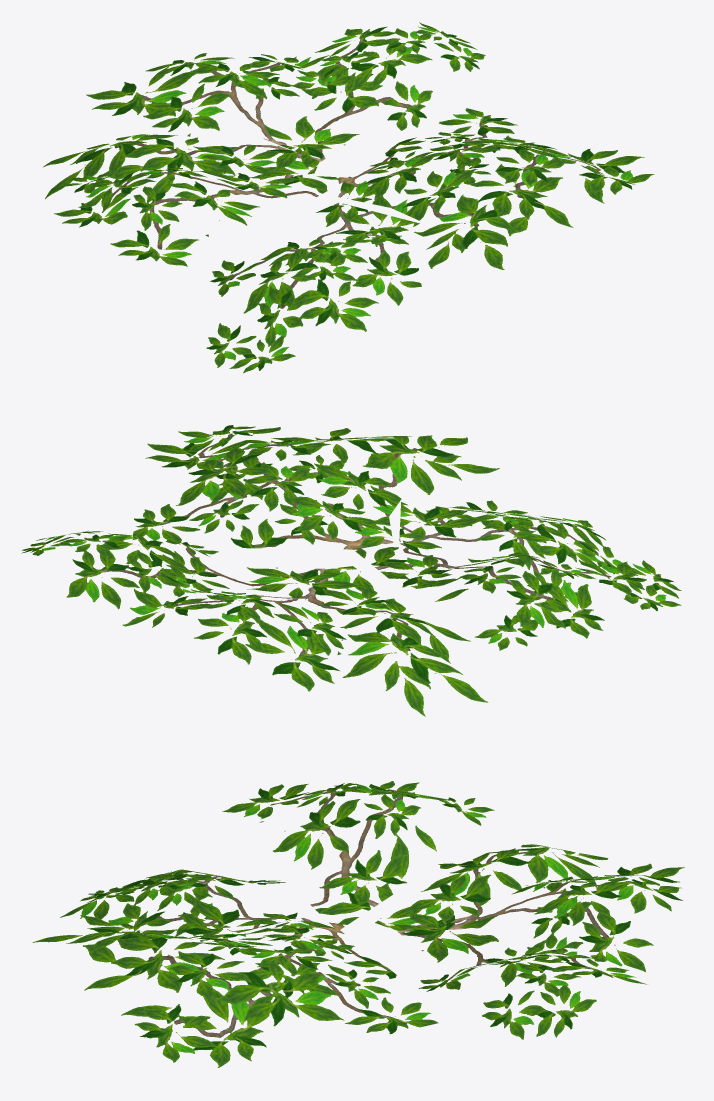
The model's file is BulkLeaves.FBX.
The picture shows the model from 3 angles, top to bottom: view 1: azimuth 30°, elevation 25°; view 2: azimuth 150°, elevation 25°; view 3: azimuth 270°, elevation 25°; orthographic projection. The views are drawn at different scales.
Parts seen in each view (by area): view 1: Card002; view 2: Card002; view 3: Card002.
Boxes of the visible parts, x1,y1,x2,y2 form: Card002: [43, 22, 654, 373]; Card002: [21, 425, 681, 716]; Card002: [32, 781, 684, 1067].
Bounding box in the file's own units: 119 × 22.05 × 110.
